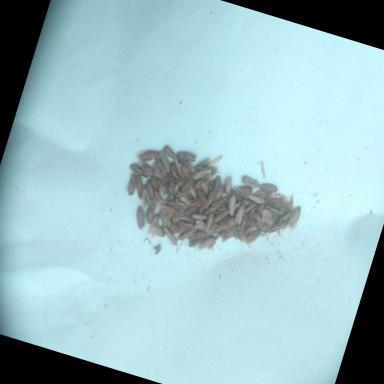pbw: (190, 163, 222, 187), (132, 143, 161, 167), (238, 225, 262, 250), (130, 204, 151, 232), (284, 204, 303, 234), (128, 174, 148, 202), (158, 226, 182, 249), (213, 212, 236, 236), (192, 154, 216, 176), (122, 169, 140, 198), (144, 212, 162, 241), (141, 198, 158, 227), (218, 223, 238, 247), (136, 184, 154, 210), (154, 150, 175, 172), (176, 224, 197, 246), (196, 232, 216, 255), (208, 174, 225, 200), (222, 192, 239, 218), (135, 160, 157, 180), (266, 218, 288, 238), (185, 226, 207, 246), (207, 193, 226, 215), (156, 197, 178, 216), (219, 174, 235, 200), (148, 187, 166, 210), (256, 208, 276, 228), (154, 207, 174, 227), (168, 156, 186, 178), (184, 194, 206, 212), (180, 172, 198, 194), (127, 163, 150, 180), (174, 149, 198, 165), (212, 205, 230, 226), (192, 188, 212, 206), (146, 174, 164, 194), (148, 163, 167, 181), (158, 180, 176, 199), (240, 173, 260, 190), (196, 176, 213, 196), (243, 218, 260, 238), (202, 222, 218, 243), (202, 210, 216, 234), (232, 203, 246, 227), (233, 183, 254, 199), (257, 180, 279, 195), (276, 206, 293, 225), (202, 189, 216, 212), (234, 219, 248, 242), (240, 198, 256, 218), (186, 211, 208, 225), (245, 192, 267, 206), (252, 220, 270, 237), (180, 202, 198, 219), (164, 219, 182, 236), (150, 222, 168, 239), (164, 170, 179, 190), (178, 158, 198, 173), (174, 218, 192, 234), (242, 212, 258, 230), (185, 234, 201, 252), (175, 212, 196, 225), (246, 202, 262, 219), (170, 174, 187, 190), (192, 218, 210, 233), (160, 144, 178, 159), (263, 204, 282, 218), (171, 197, 190, 211), (167, 208, 180, 228), (185, 184, 201, 200), (237, 196, 253, 210), (172, 194, 190, 206), (231, 200, 242, 218), (161, 171, 171, 186)
